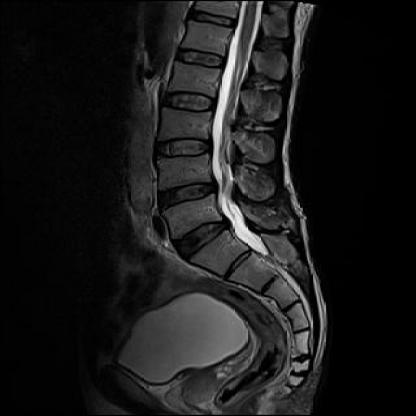Disc Bulgerotation: (169, 218, 240, 255)
